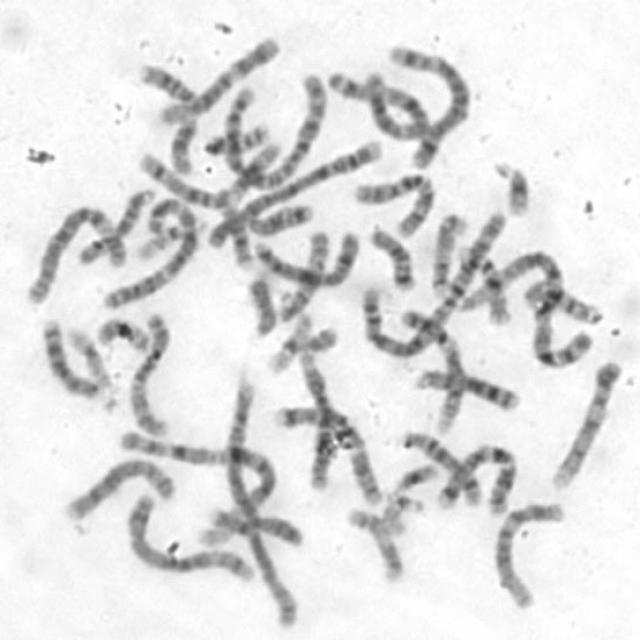A1: (113, 426, 289, 550), (445, 240, 597, 369)
A2: (357, 202, 514, 362), (216, 67, 330, 191)
A3: (95, 192, 201, 312), (322, 63, 434, 143)
B4: (201, 132, 386, 254), (218, 374, 304, 550)
B5: (120, 489, 254, 583), (382, 37, 476, 170)
C10: (122, 307, 174, 439), (348, 165, 438, 240)
C11: (215, 144, 288, 271), (132, 55, 202, 177)
C12: (153, 28, 284, 127), (488, 496, 567, 612)
C6: (20, 200, 128, 307), (293, 327, 341, 496)
C7: (268, 397, 385, 506), (431, 438, 521, 516)
C8: (207, 506, 299, 624), (59, 452, 179, 522)
C9: (547, 353, 626, 491), (393, 302, 469, 436)
D13: (36, 312, 121, 414), (412, 361, 526, 414)
D14: (394, 424, 484, 508), (133, 150, 229, 211)
D15: (72, 180, 160, 268), (271, 224, 334, 324)
E16: (450, 236, 516, 327), (518, 275, 604, 328)
E17: (342, 502, 408, 584), (425, 205, 470, 297)
E18: (363, 219, 418, 292), (236, 196, 315, 238)
F19: (262, 307, 316, 376), (62, 322, 112, 391)
F20: (91, 311, 155, 355), (200, 117, 272, 156)
G21: (488, 154, 534, 218), (388, 456, 440, 495)
G22: (131, 211, 202, 264), (377, 488, 426, 532)
X: (248, 224, 362, 288)
Y: (242, 270, 278, 339)
